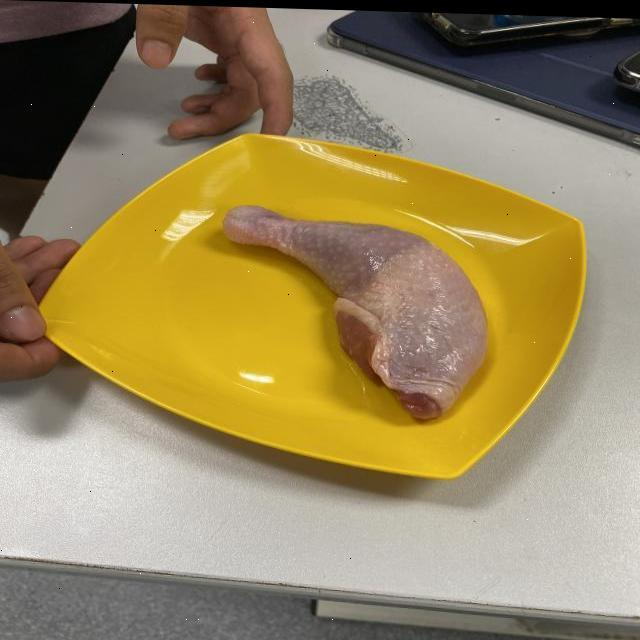quater: (222, 204, 478, 416)
